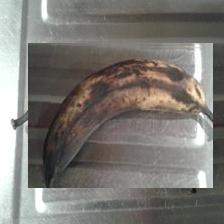Banana Rotten: (28, 43, 213, 188)
